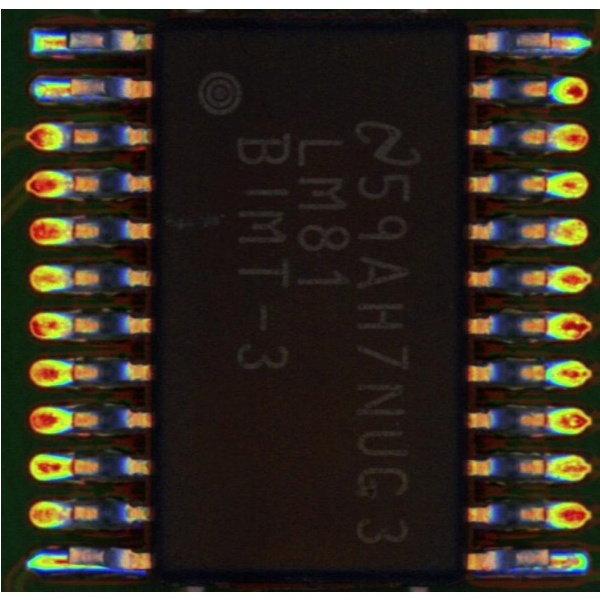Bad_podu: (53, 507, 85, 521), (539, 553, 565, 565), (539, 35, 560, 49), (47, 38, 76, 48), (55, 84, 77, 95), (59, 554, 75, 563)
Bad_qiaojiao: (69, 562, 108, 568)
